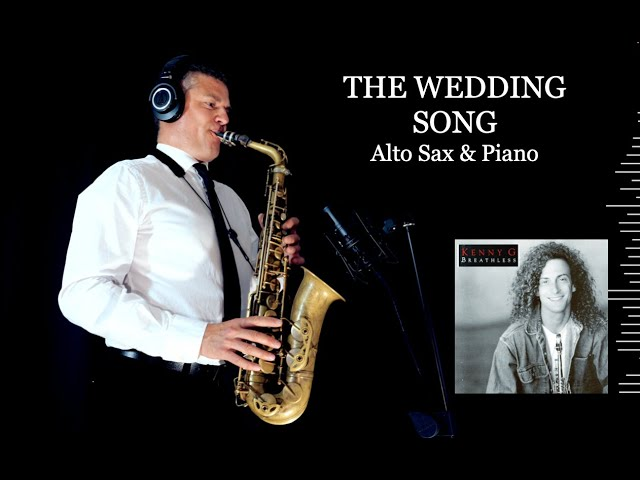Saxophone: (192, 122, 347, 445)
